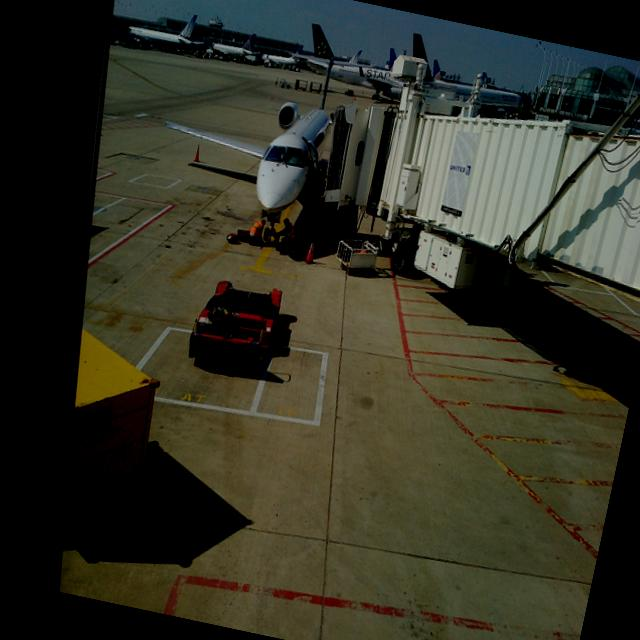Vehicle: (391, 82, 640, 300)
